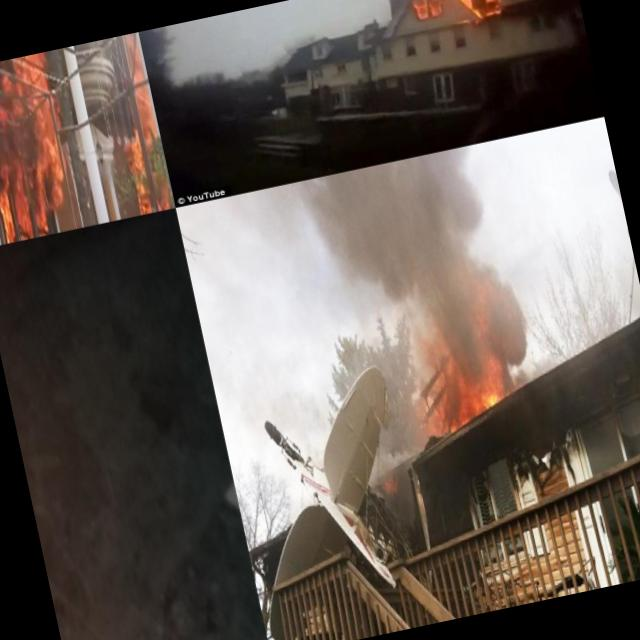fire: (1, 51, 78, 213), (0, 147, 73, 243), (427, 366, 524, 434), (122, 42, 168, 176), (405, 0, 568, 31), (122, 140, 156, 216)
smoke: (304, 142, 540, 402)
